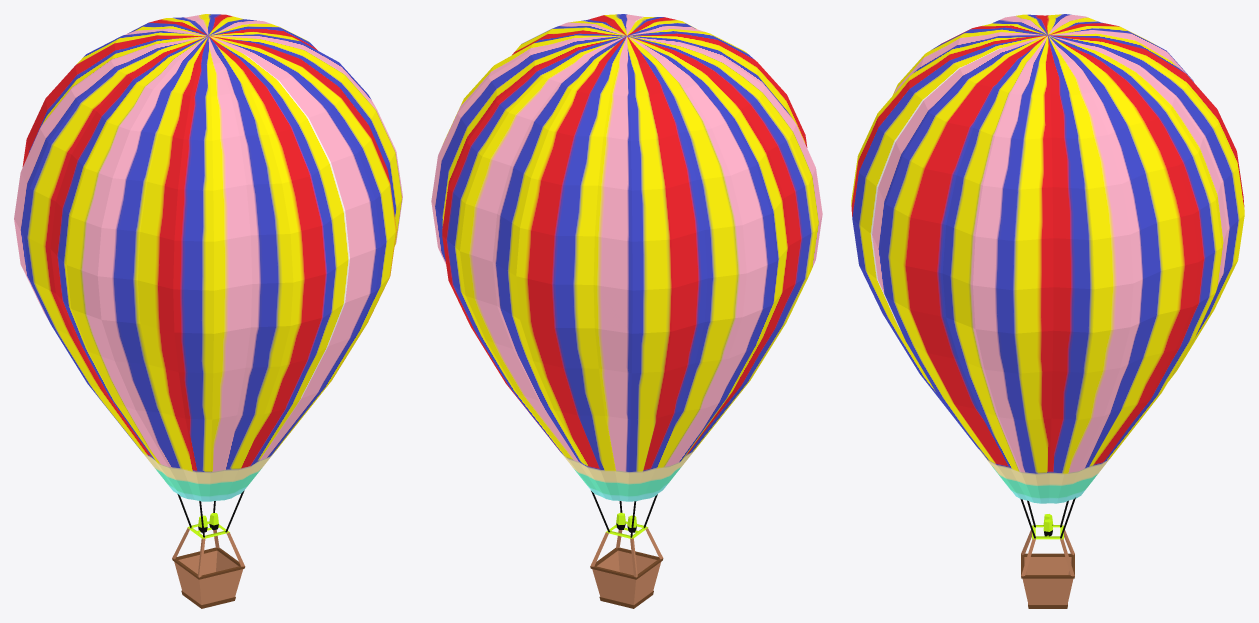
3 renders of one model, left to right at view 1: azimuth 30°, elevation 25°; view 2: azimuth 150°, elevation 25°; view 3: azimuth 270°, elevation 25°, orthographic.
Parts seen in each view (by area): view 1: Hot Air Balloon; view 2: Hot Air Balloon; view 3: Hot Air Balloon.
Part boxes in pixels (x1=…): Hot Air Balloon: x1=14, y1=14, x2=402, y2=608; Hot Air Balloon: x1=431, y1=14, x2=822, y2=608; Hot Air Balloon: x1=851, y1=14, x2=1244, y2=608.
Size of the model in its own units: 11.56 by 18.57 by 11.72.
1 material, 1 textured.
